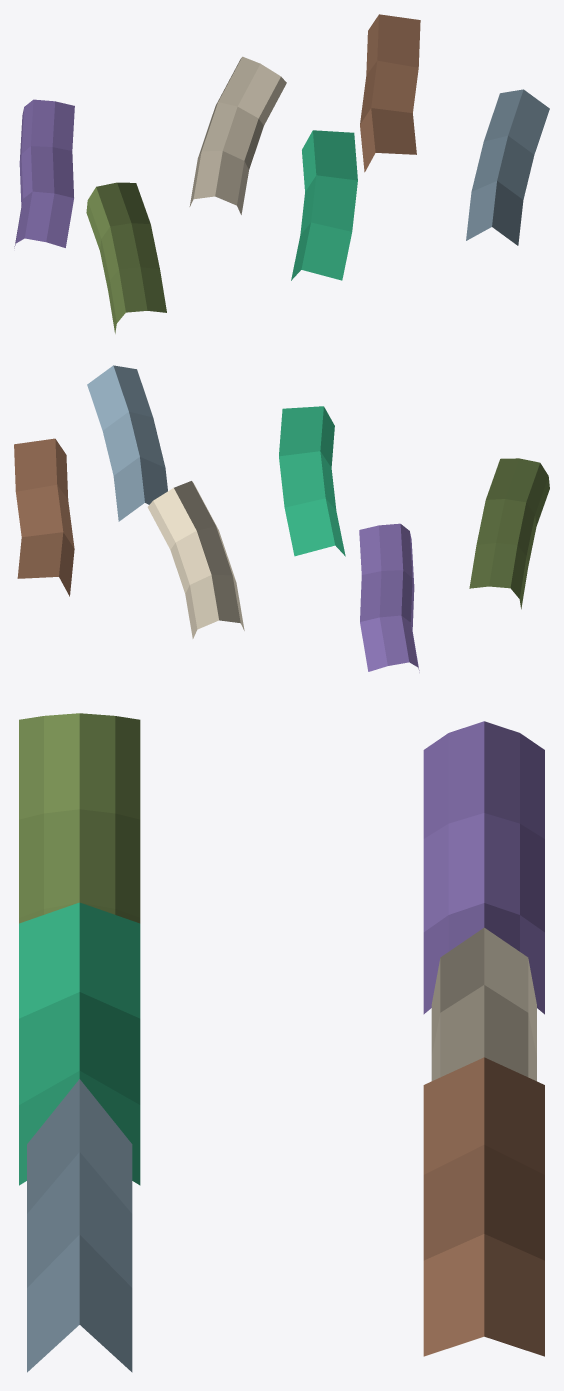
Rendered from 2_PolyLineTest_2023-06-04-15-32-24.gltf.
3 renders of one model, top to bottom at view 1: azimuth 30°, elevation 25°; view 2: azimuth 150°, elevation 25°; view 3: azimuth 270°, elevation 25°, orthographic. The views are drawn at different scales.
Size of the model in its own units: 513 by 162 by 260.
